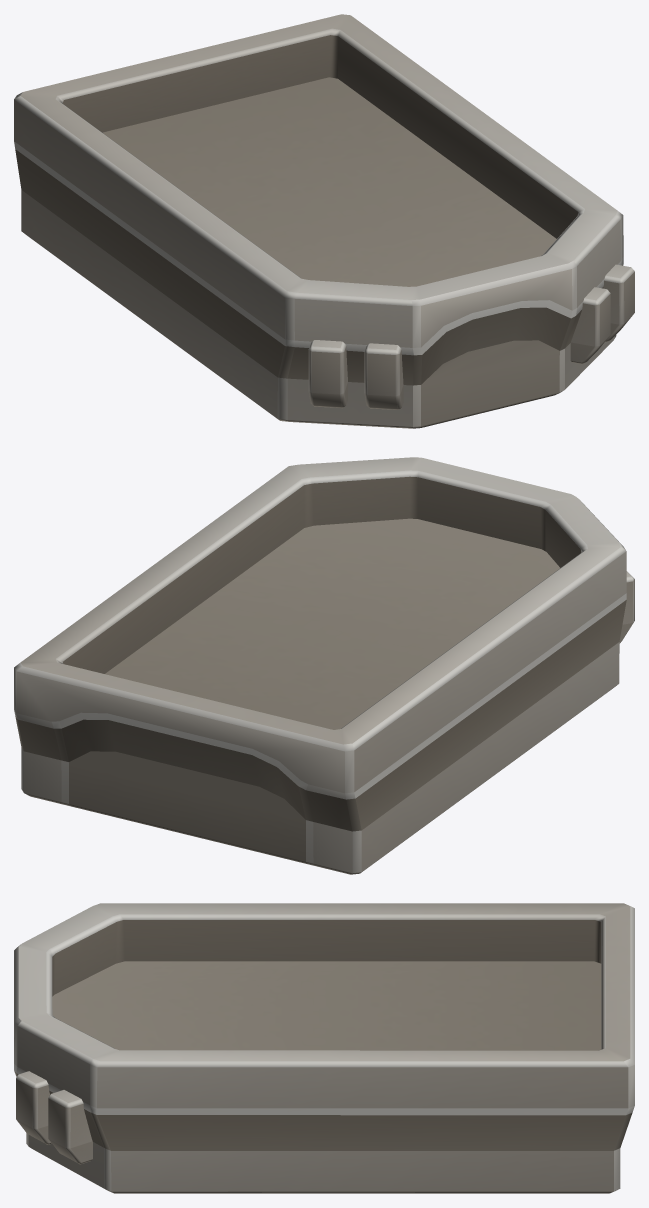
File: appartment_type4_roof_type1_grey.fbx
The picture shows the model from 3 angles, top to bottom: view 1: azimuth 30°, elevation 25°; view 2: azimuth 150°, elevation 25°; view 3: azimuth 270°, elevation 25°; orthographic projection. The views are drawn at different scales.
Visible parts, largest first — view 1: appartment_type4_roof_type1_grey; view 2: appartment_type4_roof_type1_grey; view 3: appartment_type4_roof_type1_grey.
Boxes of the visible parts, x1,y1,x2,y2 form: appartment_type4_roof_type1_grey: (14, 14, 634, 428); appartment_type4_roof_type1_grey: (14, 457, 634, 874); appartment_type4_roof_type1_grey: (14, 903, 634, 1193).
Bounding box in the file's own units: 610 × 232 × 988.
